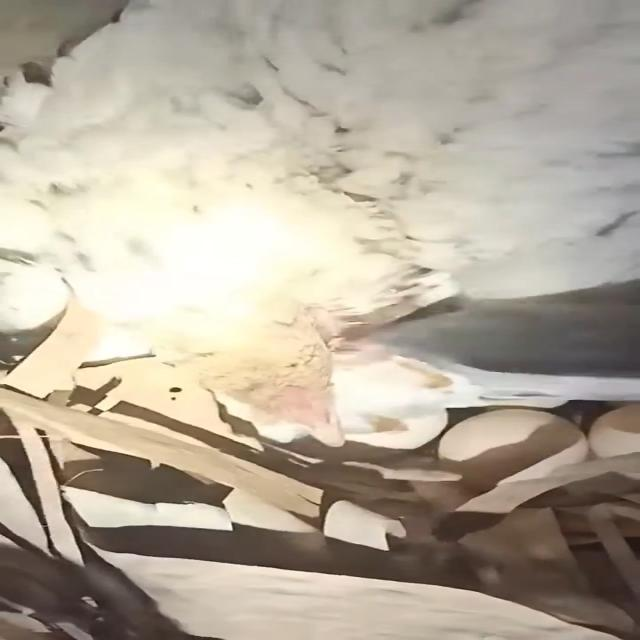crouch chicken: (2, 0, 640, 468)
